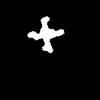single_crochet: (28, 17, 63, 52)
